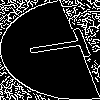T: (24, 25, 100, 65)
